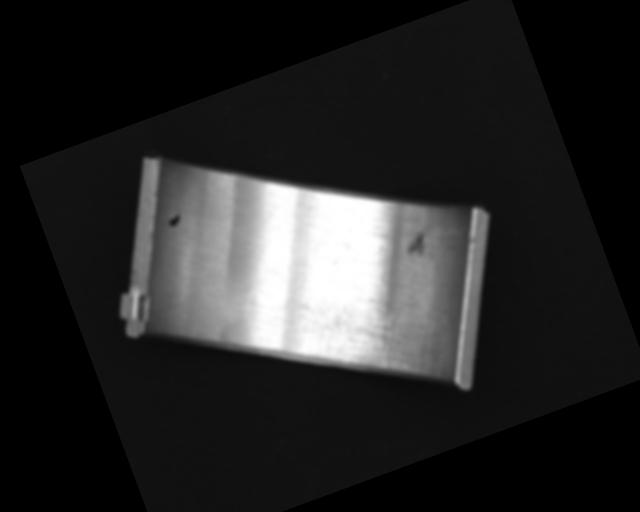blot: (165, 211, 183, 228)
bruise: (401, 232, 431, 260)
scratch: (301, 285, 426, 404)
